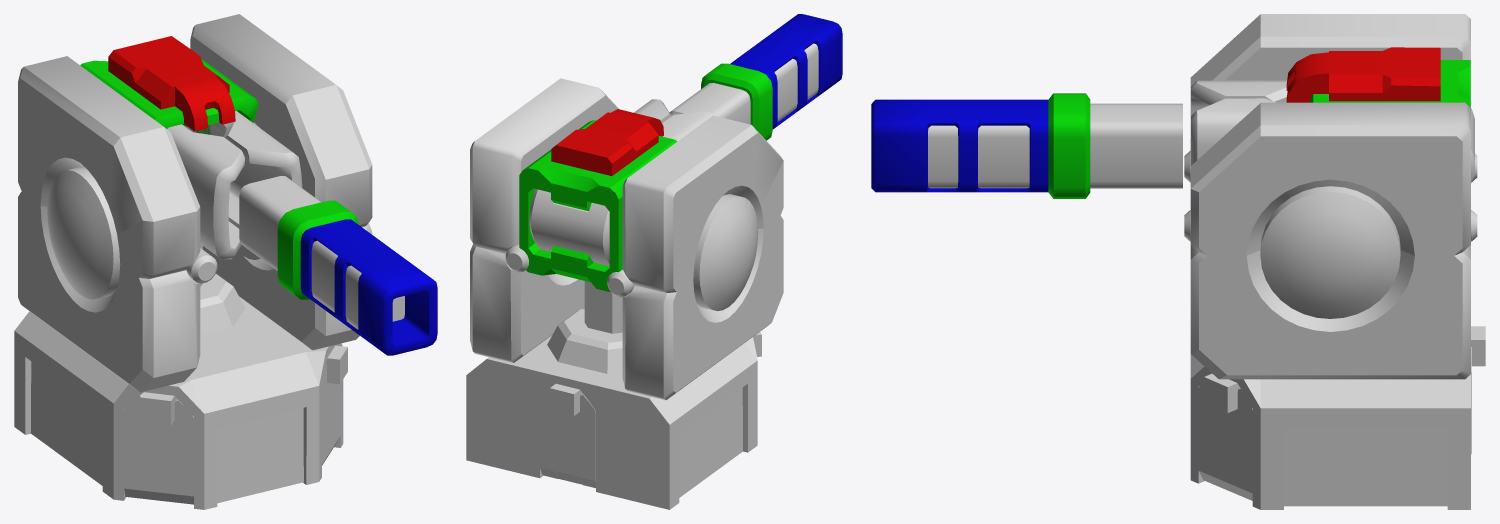
File: Laser_Turret01test.FBX
3 views of the same model, side by side, from view 1: azimuth 30°, elevation 25°; view 2: azimuth 150°, elevation 25°; view 3: azimuth 270°, elevation 25° (orthographic). The views are drawn at different scales.
Parts seen in each view (by area): view 1: Box163, polySurface151, Box160, Box162, Box157, Box159, Box158, Cylinder162, Object165, Box161, Box164, Cylinder161; view 2: Box163, polySurface151, Box160, Box159, Box162, Box161, Box157, Cylinder162, Box164, Object164, Object165, Box158 (+2 smaller); view 3: Box163, Box162, Box161, Box157, Cylinder165, Object165, polySurface151, Box159, Box158.
Part boxes in pixels (<box>): Box163: <box>14,297,347,509</box>; polySurface151: <box>18,56,200,278</box>; Box160: <box>18,191,200,392</box>; Box162: <box>190,14,372,226</box>; Box157: <box>277,200,437,355</box>; Box159: <box>80,36,258,134</box>; Box158: <box>167,111,302,259</box>; Cylinder162: <box>47,167,120,299</box>; Object165: <box>239,176,404,329</box>; Box161: <box>203,223,372,350</box>; Box164: <box>200,244,245,335</box>; Cylinder161: <box>186,248,217,283</box>; Box163: <box>466,332,761,509</box>; polySurface151: <box>622,115,783,292</box>; Box160: <box>622,215,783,400</box>; Box159: <box>519,109,677,291</box>; Box162: <box>470,78,618,253</box>; Box161: <box>470,243,584,362</box>; Box157: <box>701,14,842,140</box>; Cylinder162: <box>693,194,758,311</box>; Box164: <box>547,281,622,373</box>; Object164: <box>529,189,609,266</box>; Object165: <box>669,43,818,124</box>; Box158: <box>634,99,715,141</box>; Box163: <box>1190,326,1485,509</box>; Box162: <box>1190,102,1470,255</box>; Box161: <box>1190,245,1470,379</box>; Box157: <box>871,93,1090,198</box>; Cylinder165: <box>1260,186,1400,318</box>; Object165: <box>928,103,1182,188</box>; polySurface151: <box>1190,14,1470,106</box>; Box159: <box>1286,47,1470,107</box>; Box158: <box>1190,80,1287,165</box>.
Bounding box in the file's own units: 174 × 334 × 232.
